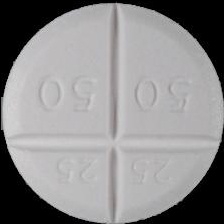53489-517: (0, 0, 224, 224)
